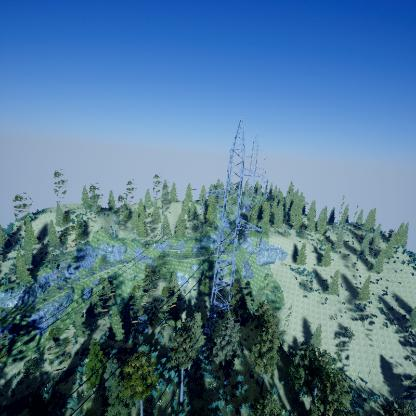tower: (199, 115, 263, 330)
